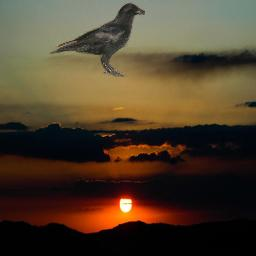Crow: (49, 2, 145, 77)
